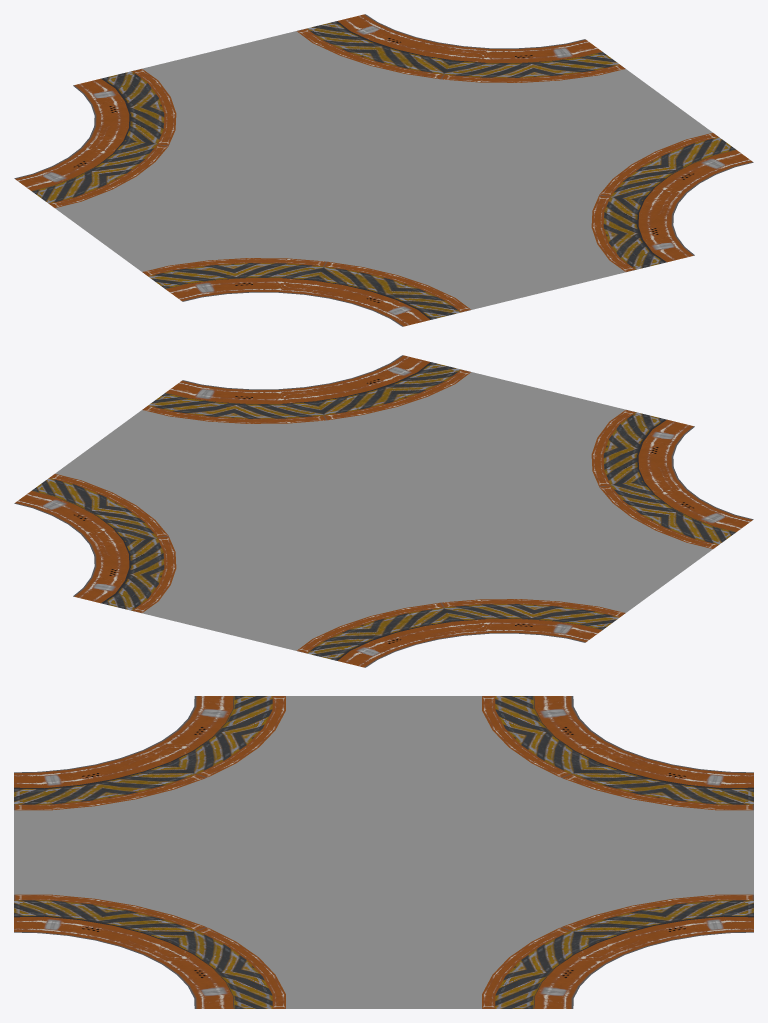
Rendered from floor_x.FBX.
The picture shows the model from 3 angles, top to bottom: view 1: azimuth 30°, elevation 25°; view 2: azimuth 150°, elevation 25°; view 3: azimuth 270°, elevation 25°; orthographic projection. The views are drawn at different scales.
Parts seen in each view (by area): view 1: Plane002; view 2: Plane002; view 3: Plane002.
Part boxes in pixels (x1,y1,x2,y2): Plane002: (14,14,753,326); Plane002: (14,355,753,667); Plane002: (14,696,753,1008).
Size of the model in its own units: 780 by 0.000171 by 780.
Materials: 2 (1 with a texture image).
